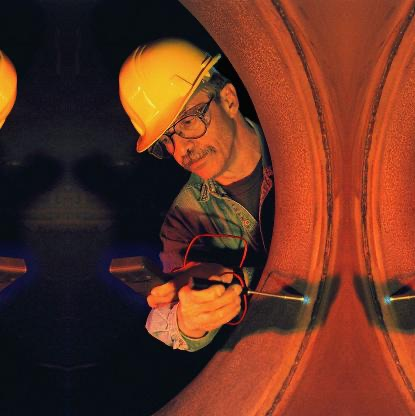Safety Helmet: (101, 31, 278, 197)
